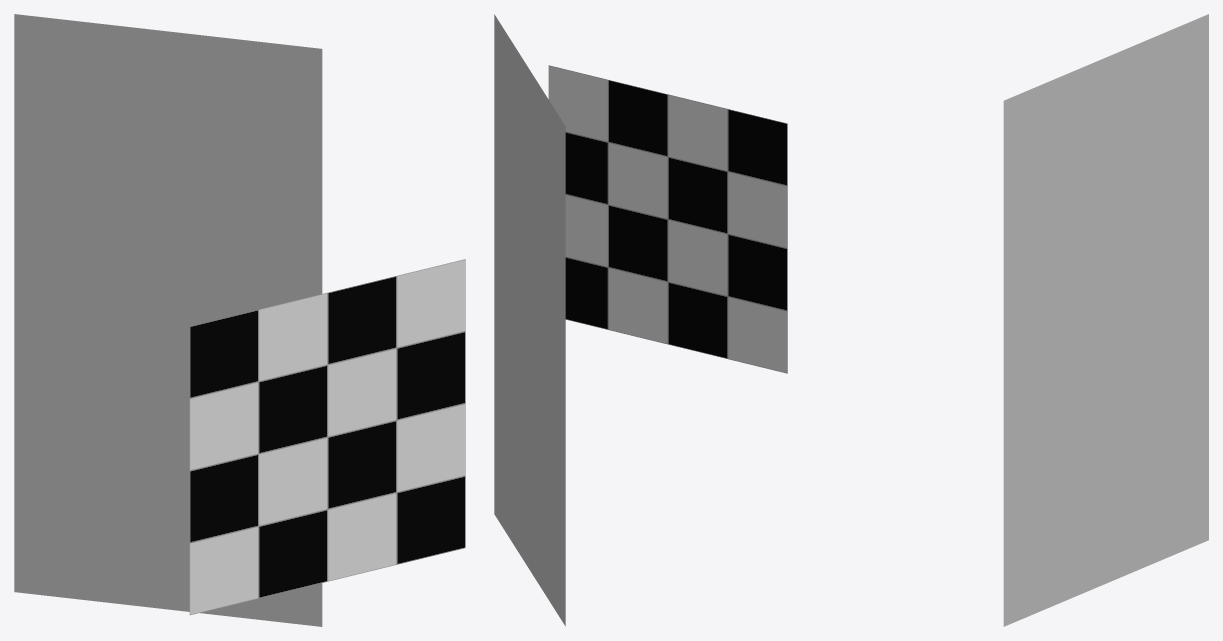
Rendered from mirrors3.glb.
The picture shows the model from 3 angles, left to right: view 1: azimuth 30°, elevation 25°; view 2: azimuth 150°, elevation 25°; view 3: azimuth 270°, elevation 25°; orthographic projection. The views are drawn at different scales.
Visible parts, largest first — view 1: Plane.002, Plane.003; view 2: Plane.003, Plane.002; view 3: Plane.002.
Part boxes in pixels (<box>): Plane.002: <box>14,14,322,626</box>; Plane.003: <box>189,259,465,615</box>; Plane.003: <box>548,65,787,373</box>; Plane.002: <box>494,14,565,626</box>; Plane.002: <box>1003,14,1208,626</box>.
Bounding box in the file's own units: 2 × 4 × 2.71.
Materials: 2 (1 with a texture image).
